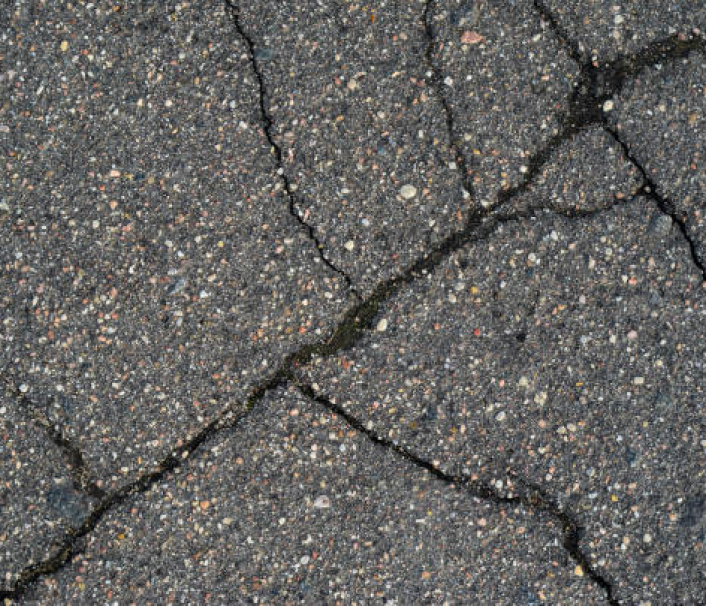Retak Buaya: (209, 1, 386, 301), (526, 1, 706, 279), (409, 2, 500, 210), (5, 356, 112, 506), (437, 164, 571, 250), (457, 474, 592, 547), (284, 292, 407, 349), (1, 527, 88, 606), (375, 232, 469, 294), (380, 429, 467, 495), (559, 525, 628, 606), (243, 354, 335, 409), (309, 384, 385, 444), (75, 472, 136, 538), (181, 400, 256, 447), (122, 450, 205, 491), (359, 271, 411, 306)
